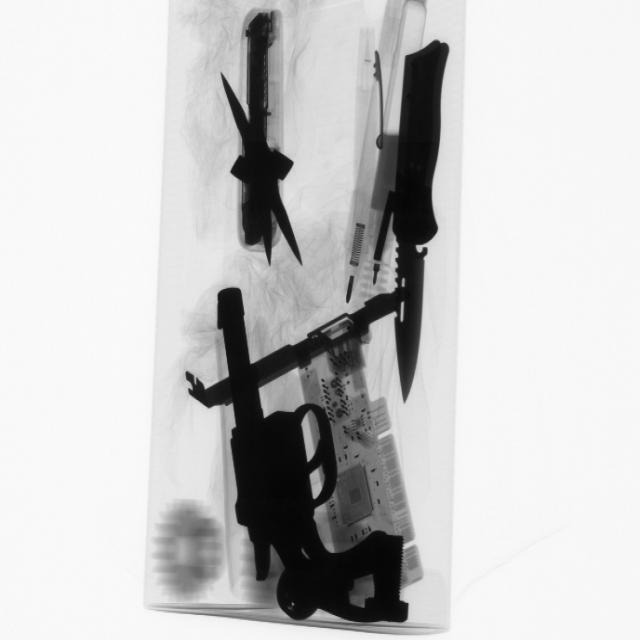GUN: (210, 283, 400, 631)
KNIFE: (376, 24, 457, 398)
SHURIKEN: (220, 42, 309, 281)
